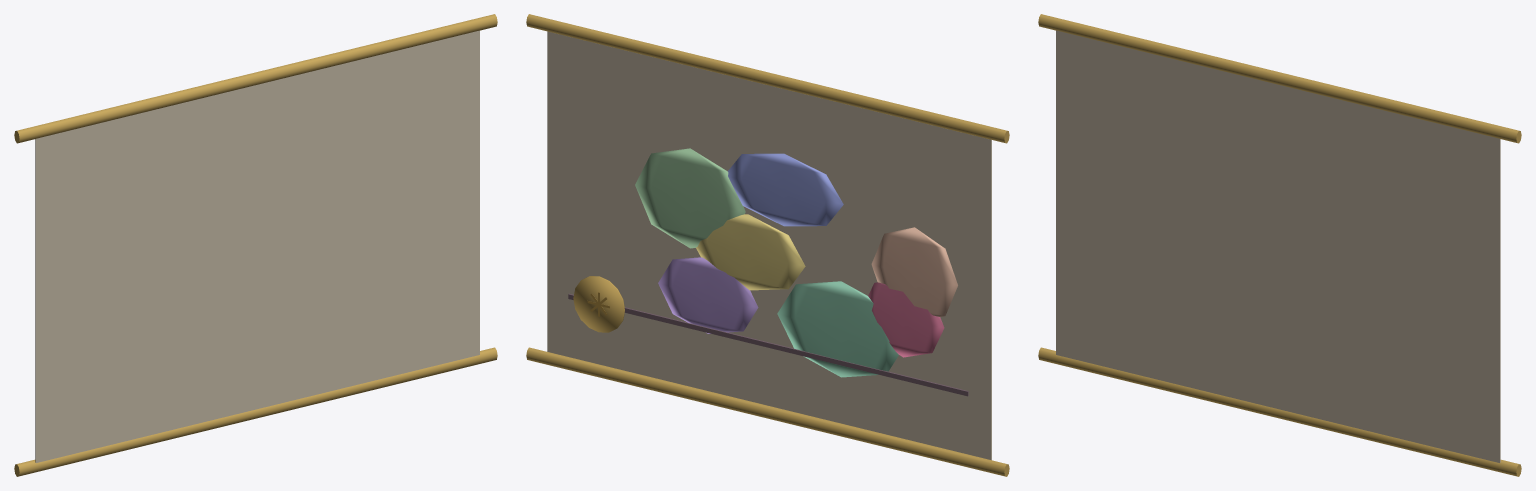
Rendered from map_wall.glb.
The picture shows the model from 3 angles, left to right: view 1: azimuth 30°, elevation 25°; view 2: azimuth 150°, elevation 25°; view 3: azimuth 330°, elevation 25°; orthographic projection.
Visible parts, largest first — view 1: map_wall; view 2: map_wall; view 3: map_wall.
Part boxes in pixels (x1=…): map_wall: x1=14, y1=14, x2=497, y2=476; map_wall: x1=526, y1=14, x2=1009, y2=476; map_wall: x1=1038, y1=14, x2=1521, y2=476.
Size of what is drawn, in the model's own units: 2.6 by 1.8 by 0.05.
